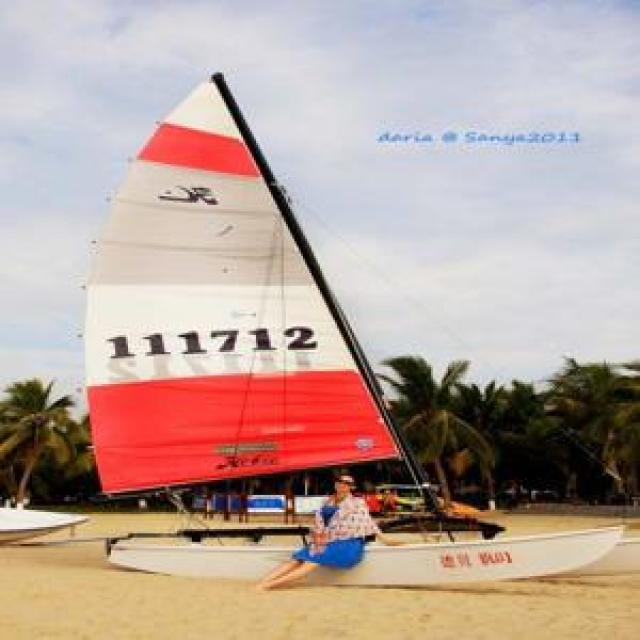sailboat: (87, 73, 622, 585)
